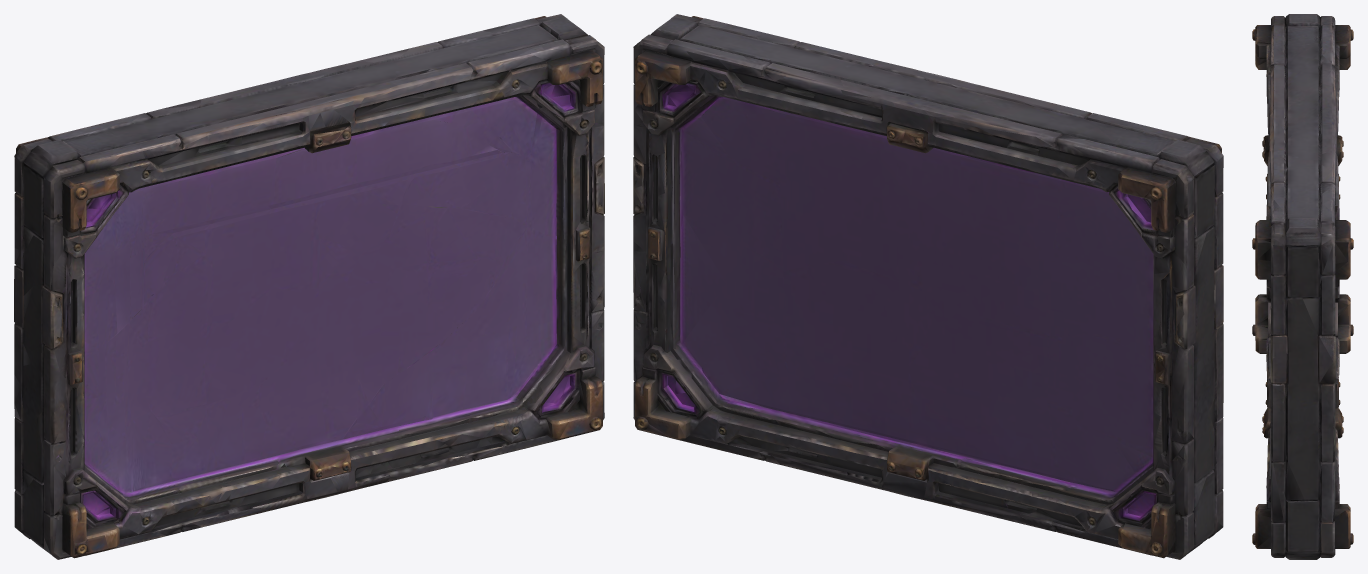
The model's file is KinjaObservationPanel.glb.
3 views of the same model, side by side, from view 1: azimuth 30°, elevation 25°; view 2: azimuth 150°, elevation 25°; view 3: azimuth 270°, elevation 25° (orthographic). The views are drawn at different scales.
Visible parts, largest first — view 1: tripo_node_fff3630c-c116-4581-a64c-3a522d1efb5d; view 2: tripo_node_fff3630c-c116-4581-a64c-3a522d1efb5d; view 3: tripo_node_fff3630c-c116-4581-a64c-3a522d1efb5d.
Part boxes in pixels (x1,y1,x2,y2): tripo_node_fff3630c-c116-4581-a64c-3a522d1efb5d: (14,14,604,559); tripo_node_fff3630c-c116-4581-a64c-3a522d1efb5d: (633,14,1223,559); tripo_node_fff3630c-c116-4581-a64c-3a522d1efb5d: (1252,14,1353,559).
Bounding box in the file's own units: 0.979 × 0.6753 × 0.1867.
Materials: 1 (1 with a texture image).
